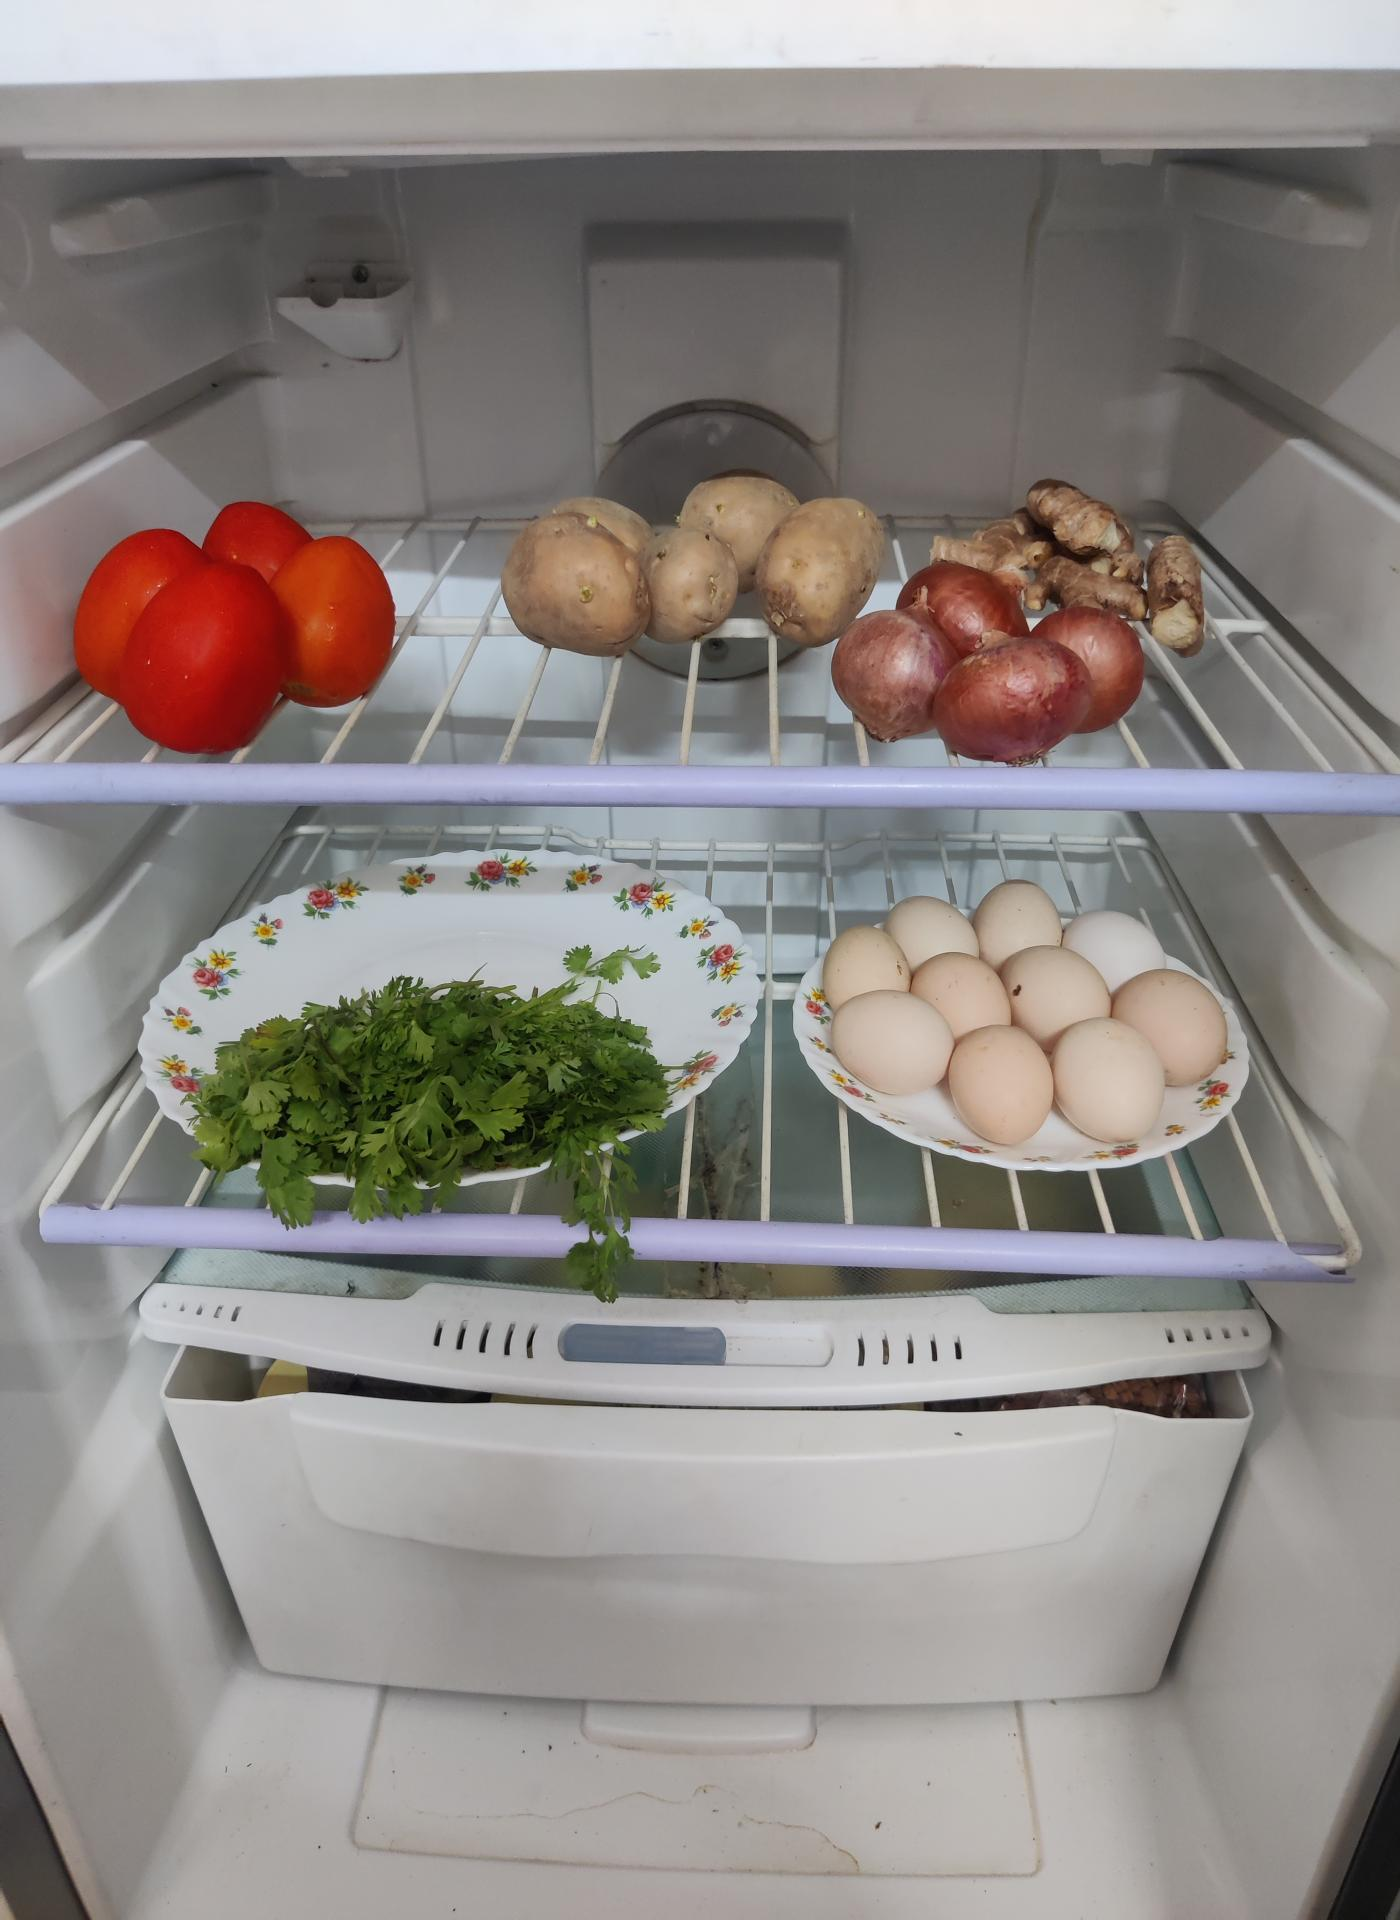coriander: (192, 976, 686, 1207)
egg: (799, 897, 1223, 1172)
ginger: (965, 476, 1215, 648)
onion: (845, 563, 1147, 759)
potato: (505, 477, 893, 663)
tomato: (79, 495, 403, 748)
